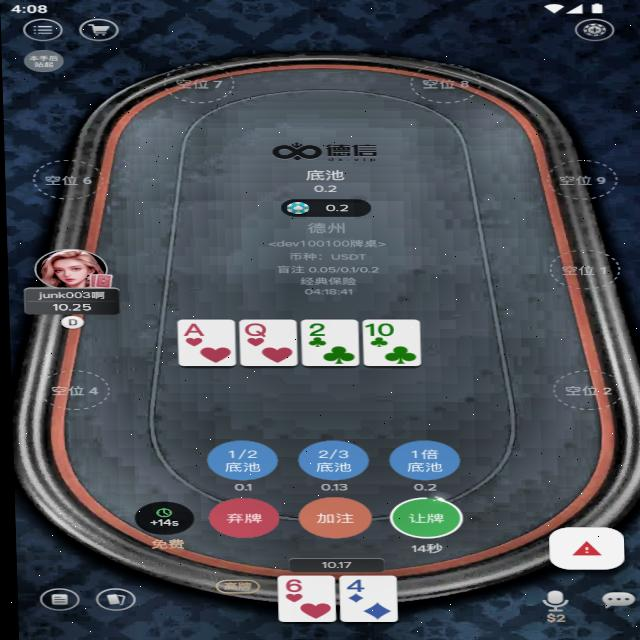10m: (363, 320, 394, 338)
2m: (303, 322, 326, 338)
4f: (341, 578, 367, 594)
6h: (279, 577, 303, 593)
Ah: (179, 322, 206, 338)
Qh: (237, 322, 265, 338)
